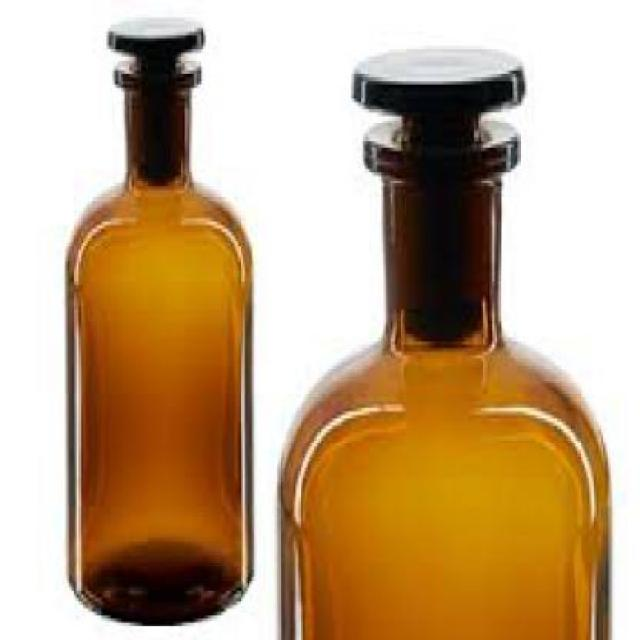kaca: (277, 46, 611, 637), (65, 19, 252, 623)
